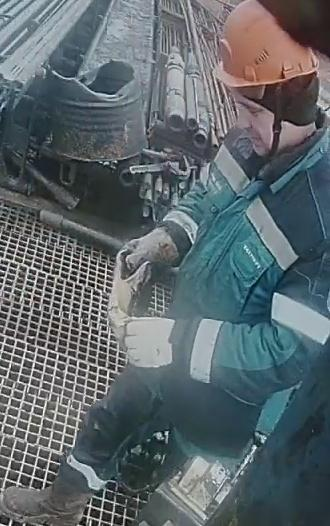gloves: (121, 217, 179, 275)
helmet: (212, 0, 319, 88)
vest: (159, 122, 328, 454)
